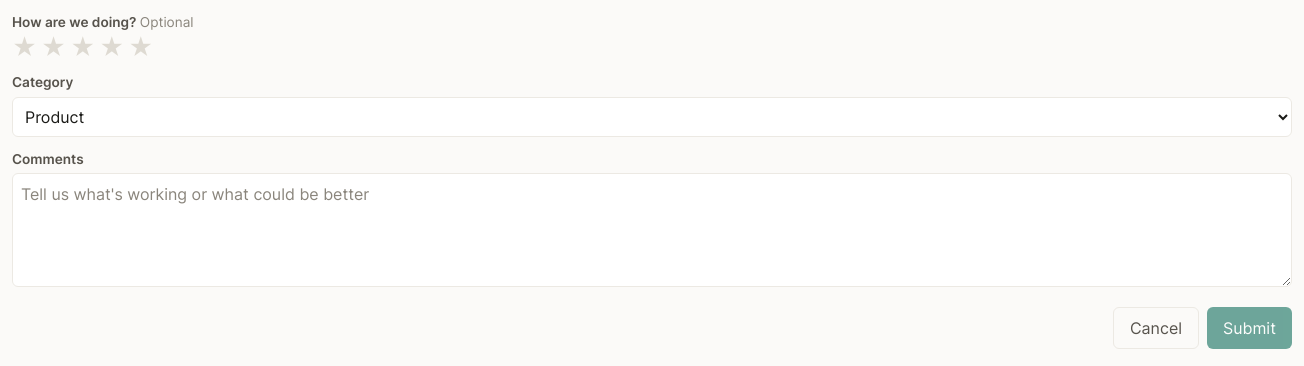
it: FeedbackForm › enables submit with a comment and no rating
Type "The export button is hard to find" into the text box labelled "Comments" at coordinates (652, 230), box [12,173,1292,287]
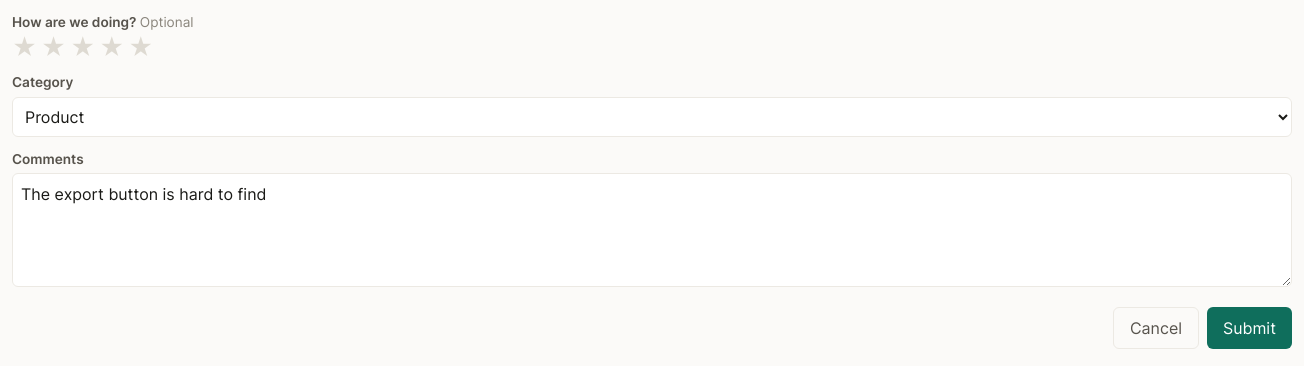
Check: the submit button is enabled, box [1207,307,1292,349]
